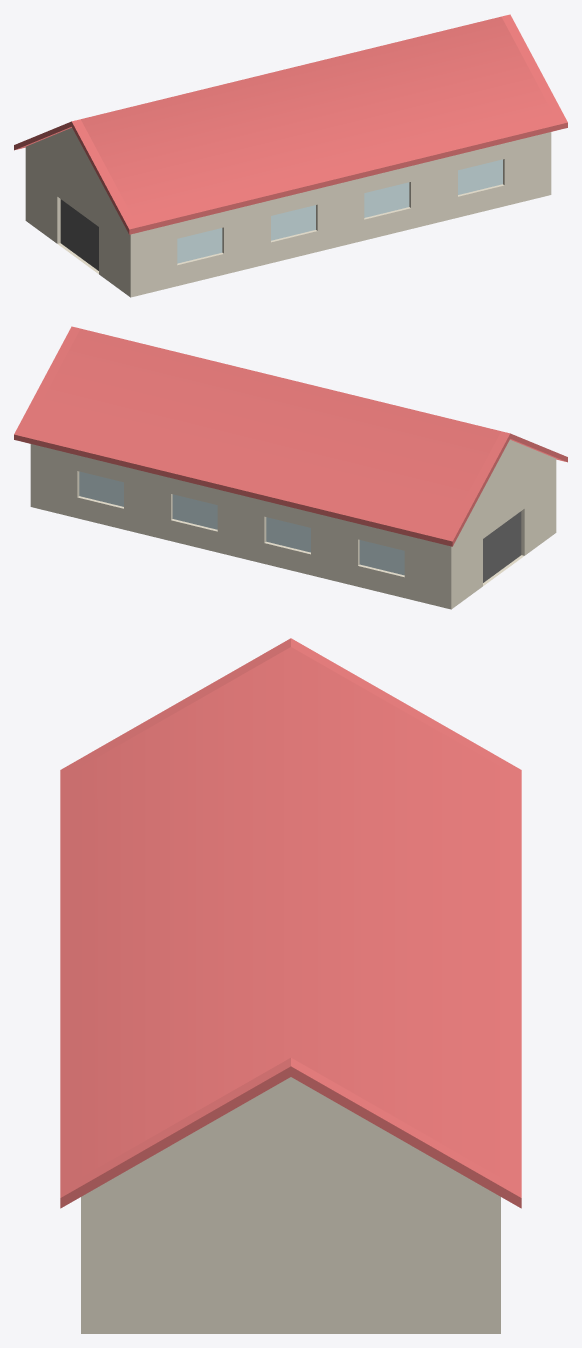
The model's file is Factory.fbx.
The picture shows the model from 3 angles, top to bottom: view 1: azimuth 30°, elevation 25°; view 2: azimuth 150°, elevation 25°; view 3: azimuth 270°, elevation 25°; orthographic projection. The views are drawn at different scales.
Visible parts, largest first — view 1: Factory__3_, Box20190; view 2: Factory__3_, Box20190; view 3: Factory__3_, Box20190.
Part boxes in pixels (x1,y1,x2,y2): Factory__3_: (14,14,567,263); Box20190: (25,128,551,297); Factory__3_: (14,326,567,575); Box20190: (30,440,556,609); Factory__3_: (60,638,521,1208); Box20190: (81,1077,500,1333).
Bounding box in the file's own units: 34606 × 10504 × 15756.
